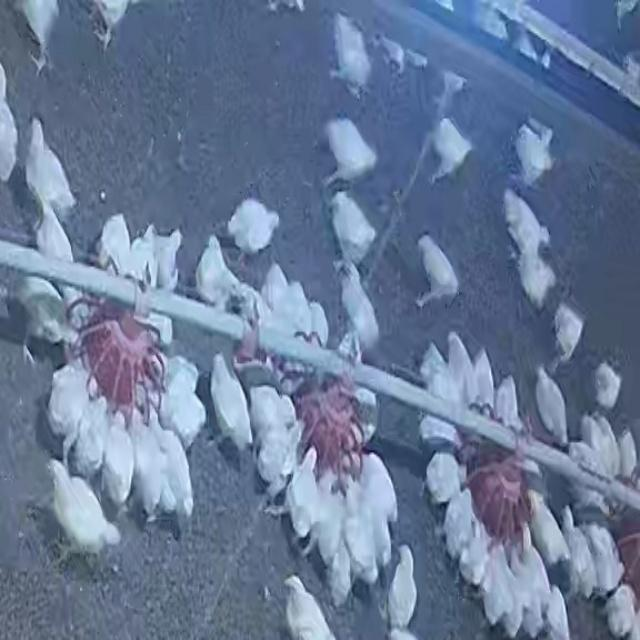chicken: (45, 458, 123, 560), (24, 117, 80, 224), (149, 404, 196, 516), (208, 350, 255, 459), (15, 272, 75, 352), (337, 262, 380, 354), (12, 0, 64, 76), (422, 116, 477, 186), (325, 188, 377, 261), (193, 235, 243, 310), (344, 451, 398, 519), (282, 575, 338, 639), (502, 188, 549, 264), (257, 423, 307, 494), (384, 544, 422, 637), (225, 198, 282, 259), (414, 232, 458, 310), (31, 200, 79, 271), (129, 408, 162, 509), (49, 368, 96, 436), (324, 119, 373, 183), (96, 212, 138, 286), (160, 380, 206, 447), (72, 397, 110, 476), (533, 367, 570, 448), (513, 118, 556, 187), (286, 444, 318, 536), (560, 505, 592, 597), (529, 484, 565, 562), (332, 16, 368, 93), (517, 243, 557, 312), (101, 411, 131, 503), (583, 522, 621, 594), (346, 496, 377, 584), (493, 552, 525, 636), (313, 473, 342, 564), (511, 552, 543, 634), (552, 302, 586, 369), (478, 552, 509, 625), (423, 450, 462, 506), (151, 225, 184, 291), (251, 386, 296, 434), (443, 489, 473, 554), (262, 264, 292, 328), (447, 332, 473, 402), (523, 526, 549, 594), (606, 586, 639, 638), (592, 359, 622, 412), (474, 350, 496, 413), (496, 376, 521, 430), (461, 532, 485, 584), (547, 588, 568, 640), (619, 430, 637, 482)
